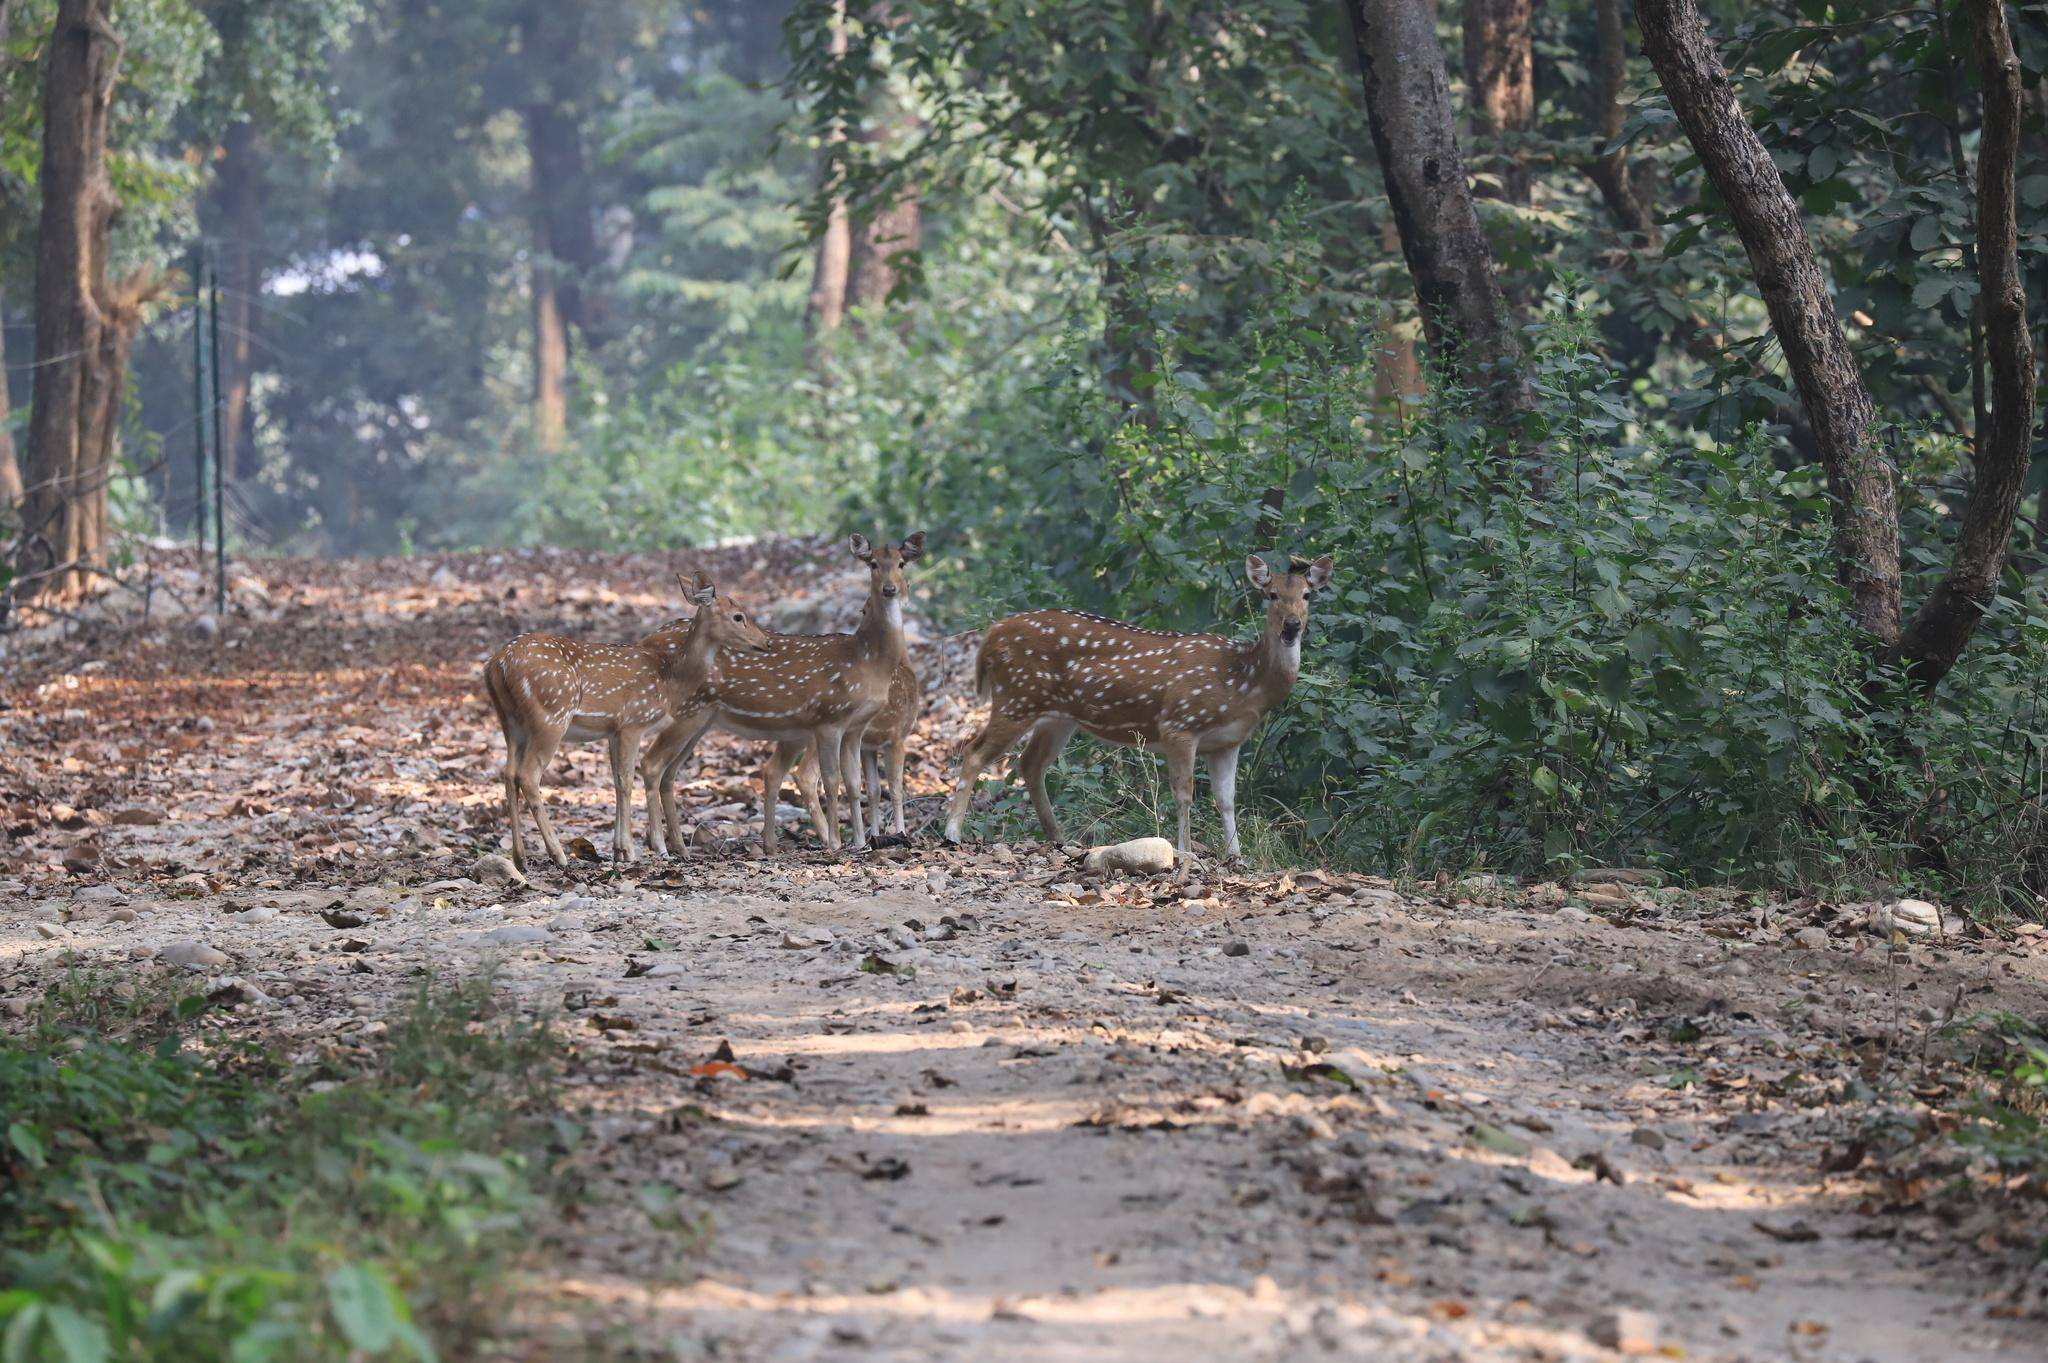Deer: (944, 555, 1330, 870), (640, 532, 926, 855), (483, 570, 769, 875)
